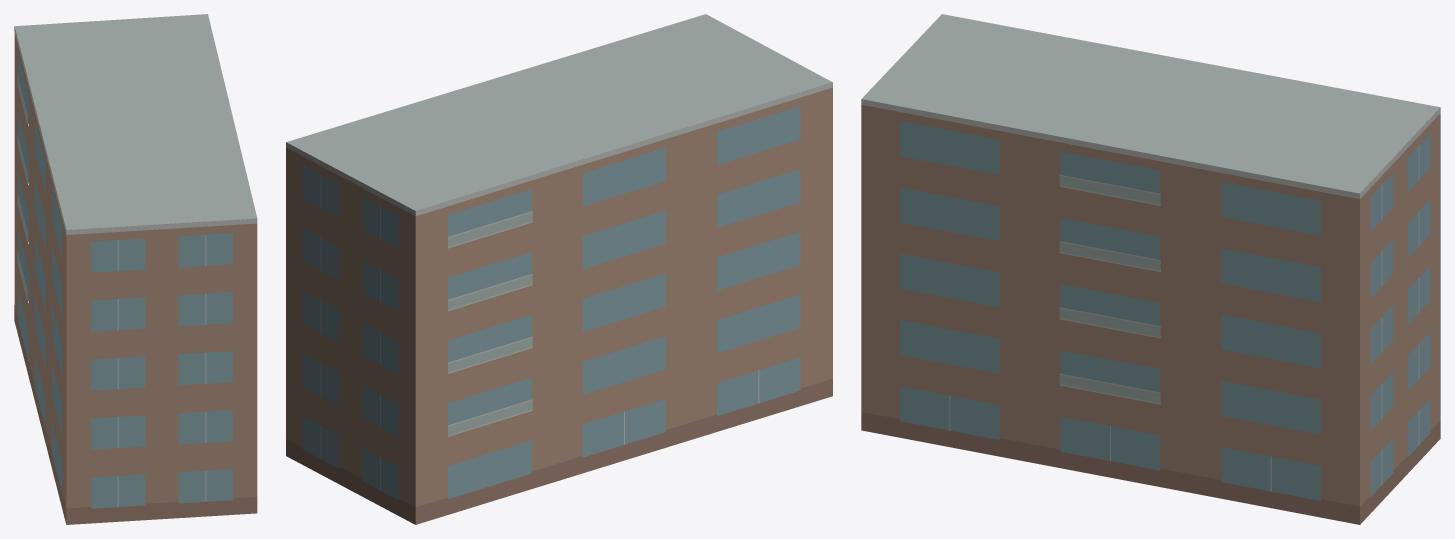
The model's file is survey-upis-32570858.glb.
3 views of the same model, side by side, from view 1: azimuth 30°, elevation 25°; view 2: azimuth 150°, elevation 25°; view 3: azimuth 270°, elevation 25° (orthographic). The views are drawn at different scales.
Parts seen in each view (by area): view 1: survey-upis-32570858.tmp; view 2: survey-upis-32570858.tmp; view 3: survey-upis-32570858.tmp.
Boxes of the visible parts, box(x1,y1,x2,y2) form: survey-upis-32570858.tmp: box(14, 14, 257, 524); survey-upis-32570858.tmp: box(286, 14, 832, 524); survey-upis-32570858.tmp: box(861, 14, 1440, 524).
Bounding box in the file's own units: 16.63 × 14.3 × 22.67.
